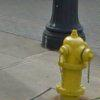Hydrant: (42, 26, 92, 100)
